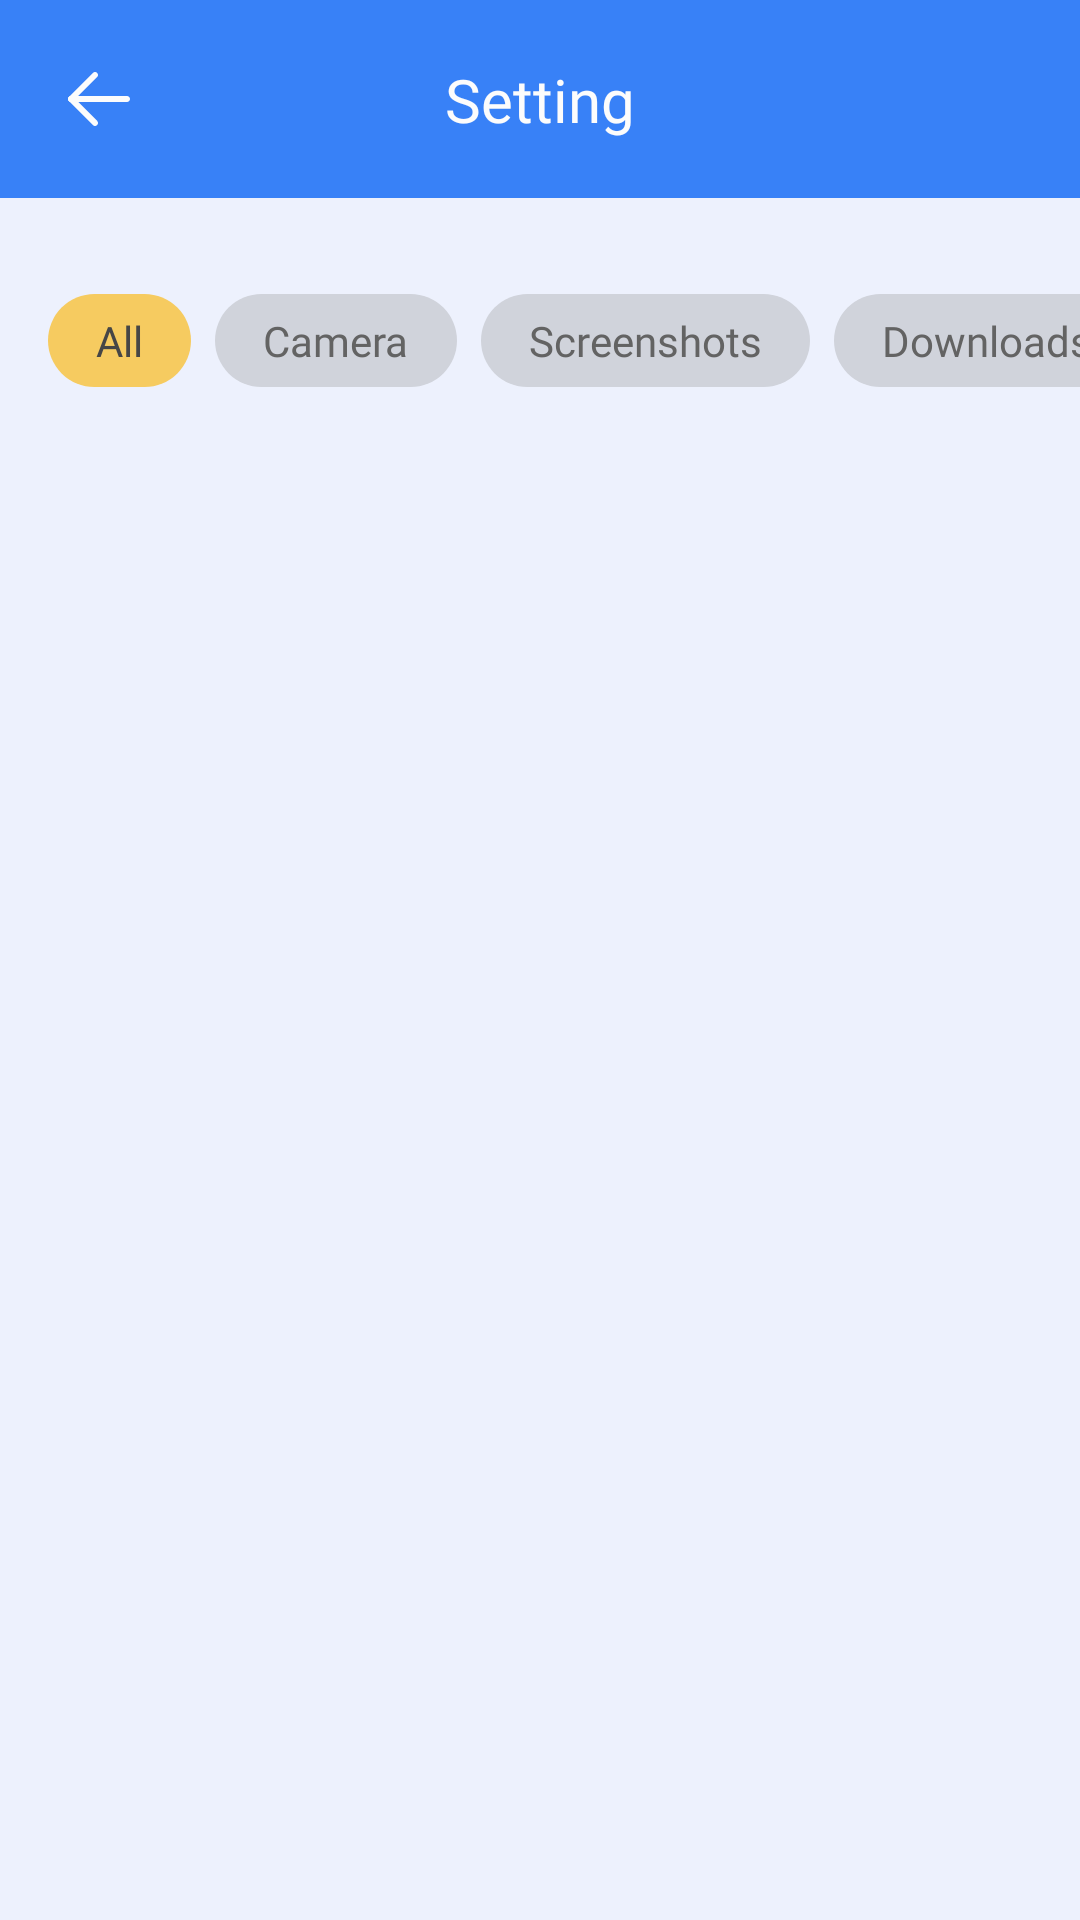

Icon click points for this 1080px×1920px phone screenshot, format (x,y):
back: (99,99)
